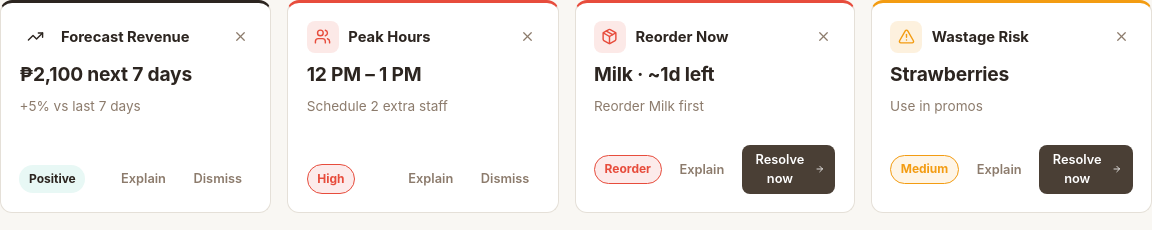
Scenario: AiInsights › Explain button › should show a loading state while explaining
What coordinates should you click on to do the following:
click the button with test id "insight-explain-forecast"
I would click on:
 (144, 179)
Its box is [111,163,176,194].
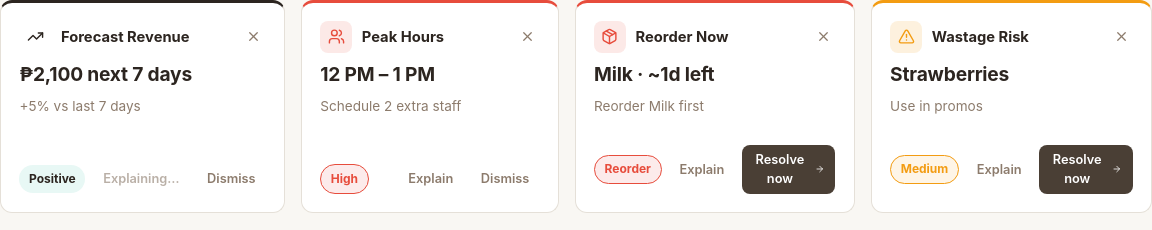
Now the button with test id "insight-explain-forecast" is disabled, box [93,163,189,194]
Now the button with test id "insight-explain-forecast" reads "Explaining…", box [93,163,189,194]
